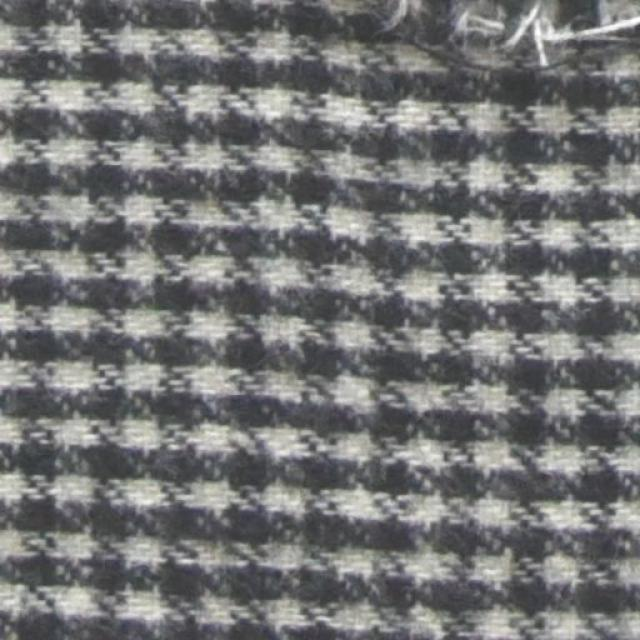Snag: (237, 0, 639, 75)
